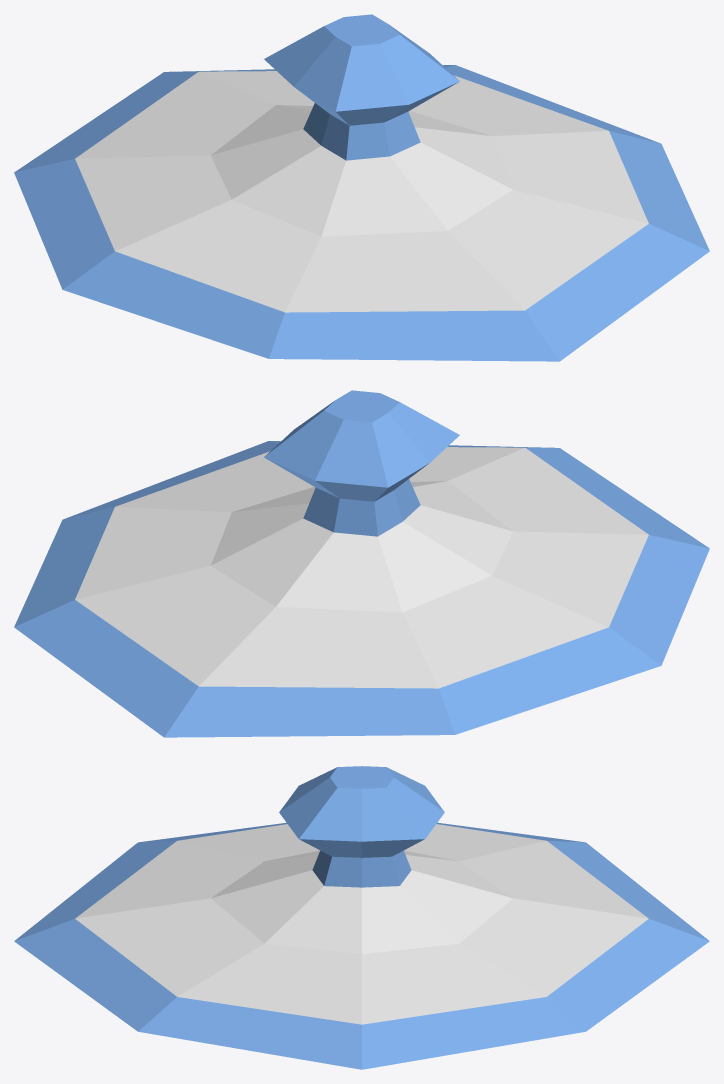
File: Teapot lid.fbx
3 views of the same model, one above another, from view 1: azimuth 30°, elevation 25°; view 2: azimuth 150°, elevation 25°; view 3: azimuth 270°, elevation 25° (orthographic). The views are drawn at different scales.
Visible parts, largest first — view 1: Teapot lid; view 2: Teapot lid; view 3: Teapot lid.
Boxes of the visible parts, bbox=[...] form: Teapot lid: bbox=[14, 14, 709, 361]; Teapot lid: bbox=[14, 390, 709, 737]; Teapot lid: bbox=[14, 766, 709, 1069].
Size of the model in its own units: 14.26 by 4.24 by 16.32.
